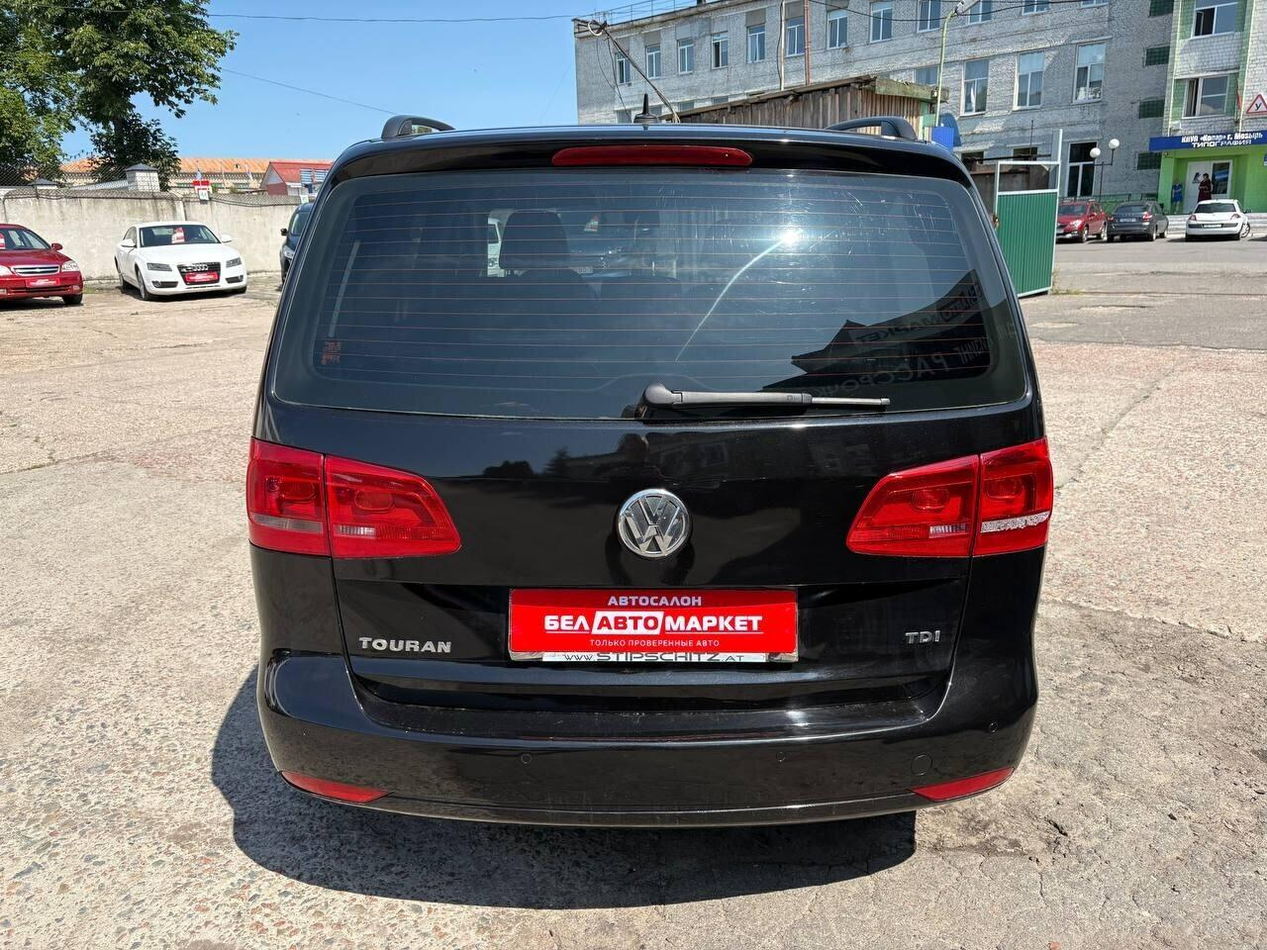Touran_2010-2015: (234, 111, 1058, 836)
